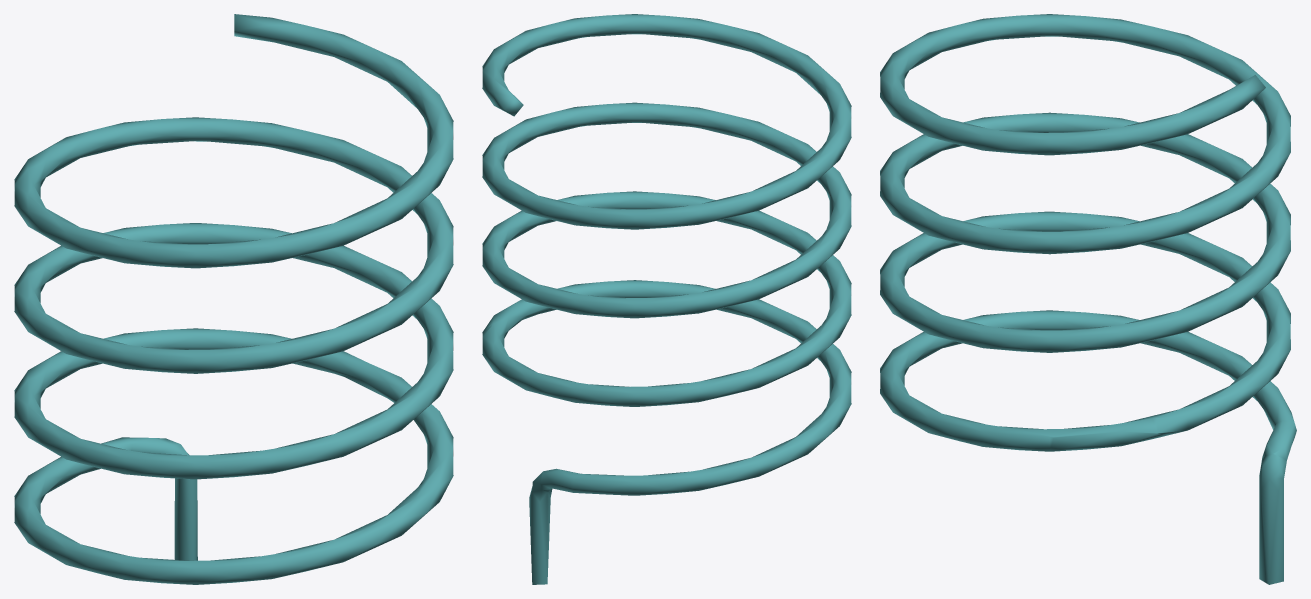
Rendered from PC_Coil.fbx.
3 views of the same model, side by side, from view 1: azimuth 30°, elevation 25°; view 2: azimuth 150°, elevation 25°; view 3: azimuth 270°, elevation 25° (orthographic). The views are drawn at different scales.
Visible parts, largest first — view 1: PC_Coil; view 2: PC_Coil; view 3: PC_Coil.
Boxes of the visible parts, x1,y1,x2,y2 form: PC_Coil: (14,14,453,584); PC_Coil: (482,14,851,584); PC_Coil: (880,14,1296,584).
Bounding box in the file's own units: 0.4607 × 0.6377 × 0.4602.
